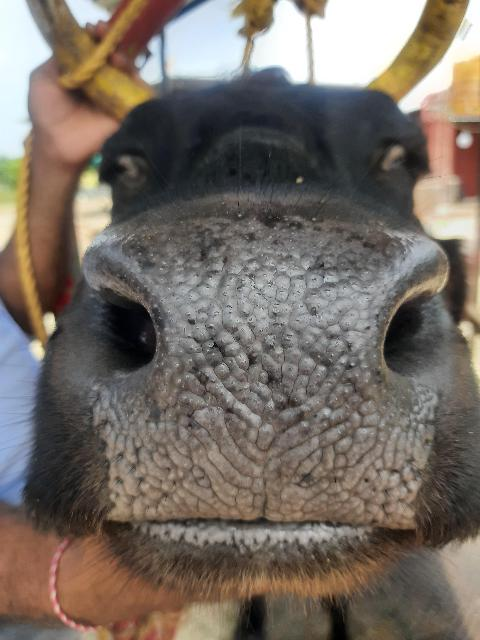Muzzle: (156, 246, 378, 516)
